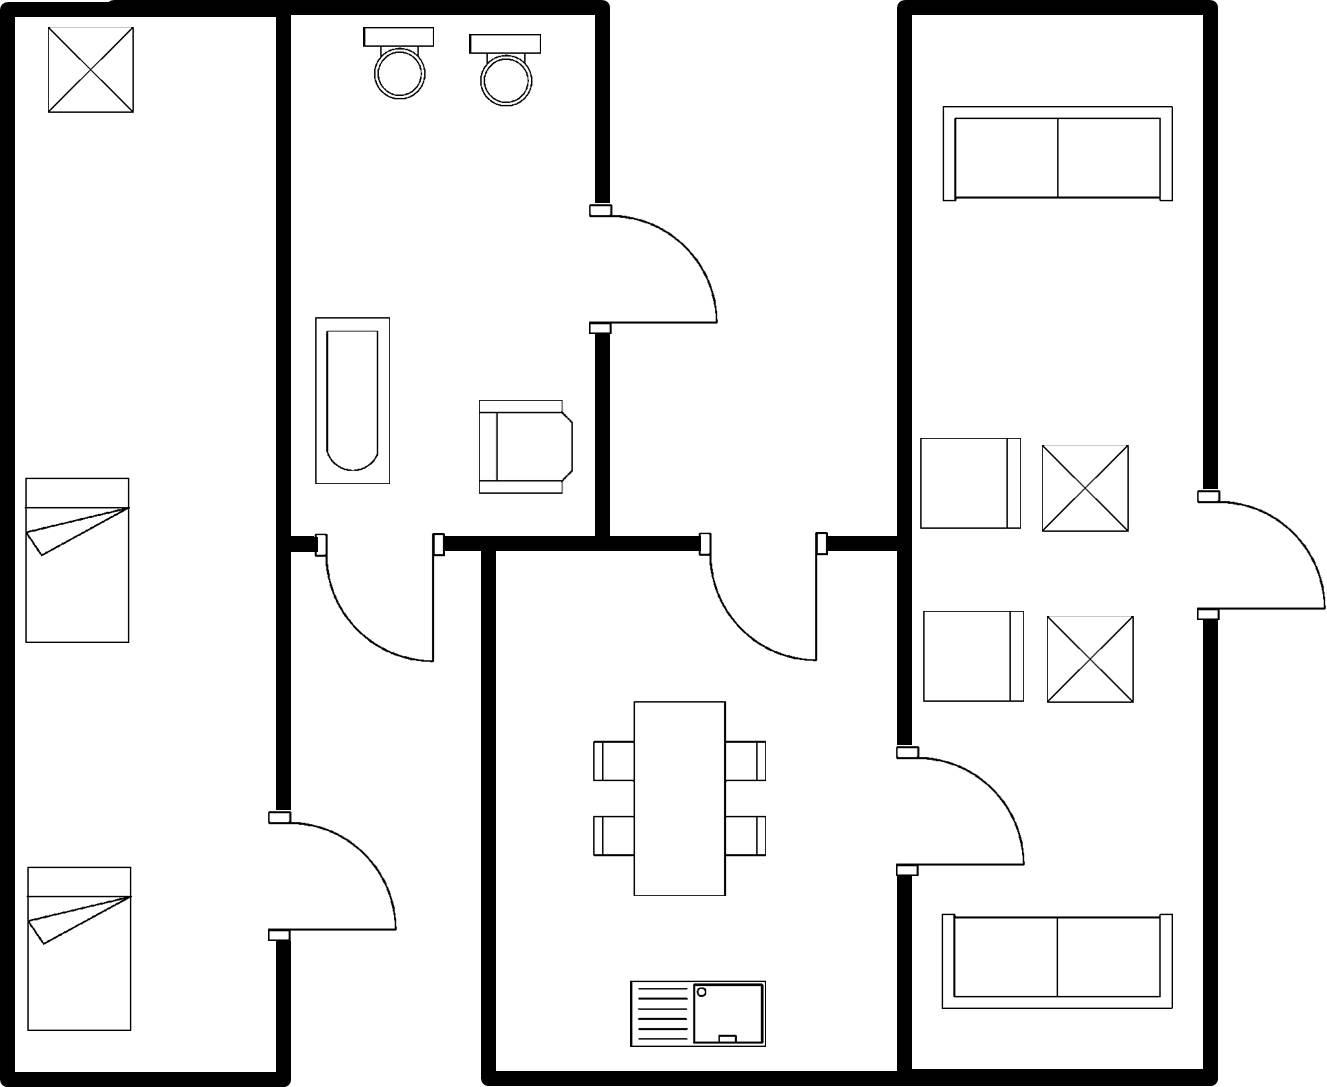bed: (20, 470, 134, 654), (22, 859, 138, 1041)
dining_table: (583, 692, 775, 906)
sink: (616, 971, 777, 1056)
sofa: (931, 900, 1179, 1019), (931, 95, 1180, 211)
toilet: (460, 25, 555, 111), (353, 17, 441, 108)
tub: (305, 310, 396, 492)
